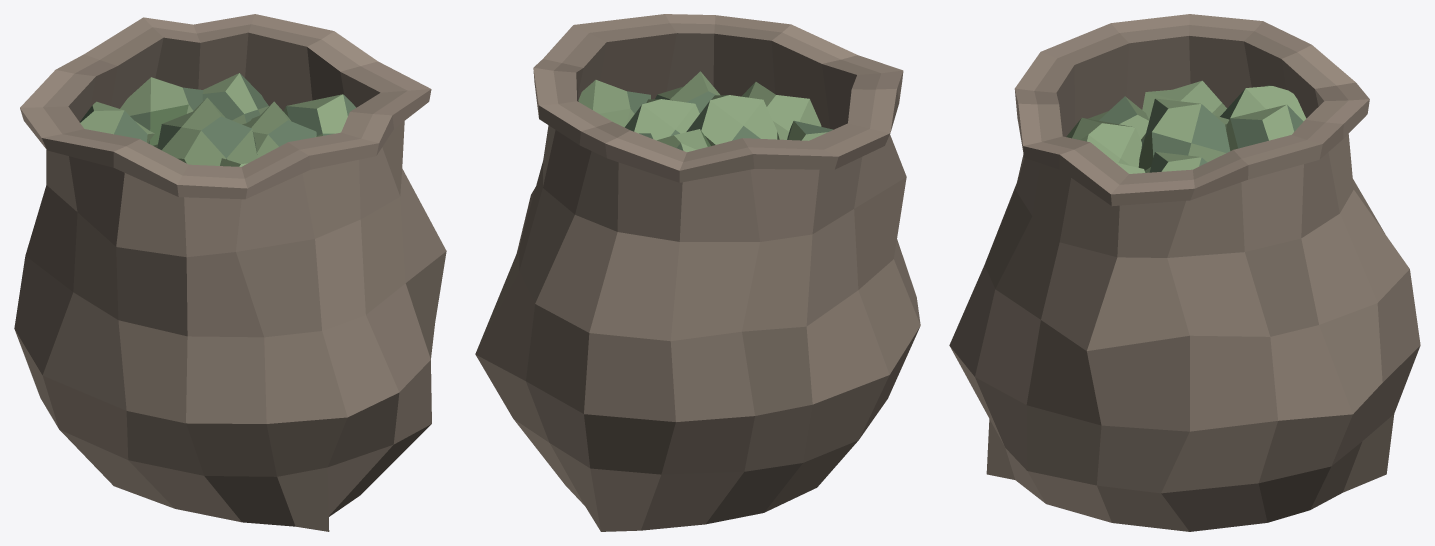
The model's file is cabbagesack.glb.
3 views of the same model, side by side, from view 1: azimuth 30°, elevation 25°; view 2: azimuth 150°, elevation 25°; view 3: azimuth 270°, elevation 25° (orthographic).
Visible parts, largest first — view 1: Cylinder, Cube, Cube.001, Cube.007, Cube.009, Cube.002, Cube.006; view 2: Cylinder, Cube, Cube.002, Cube.009, Cube.004, Cube.008, Cube.001, Cube.005; view 3: Cylinder, Cube, Cube.001, Cube.004, Cube.006, Cube.003, Cube.005, Cube.002.
Boxes of the visible parts, x1,y1,x2,y2 form: Cylinder: (14, 14, 446, 531); Cube: (157, 97, 257, 165); Cube.001: (120, 77, 203, 147); Cube.007: (202, 73, 268, 124); Cube.009: (283, 94, 356, 136); Cube.002: (242, 101, 316, 158); Cube.006: (79, 101, 154, 142); Cylinder: (475, 14, 920, 531); Cube: (686, 95, 779, 145); Cube.002: (625, 99, 699, 140); Cube.009: (578, 80, 650, 127); Cube.004: (741, 82, 821, 139); Cube.008: (655, 71, 720, 113); Cube.001: (657, 129, 710, 152); Cube.005: (787, 120, 832, 140); Cylinder: (949, 14, 1420, 531); Cube: (1138, 98, 1230, 172); Cube.001: (1226, 104, 1303, 150); Cube.004: (1066, 117, 1141, 167); Cube.006: (1220, 85, 1306, 121); Cube.003: (1142, 80, 1226, 119); Cube.005: (1088, 96, 1149, 139); Cube.002: (1149, 152, 1207, 172).
Size of the model in its own units: 1.04 by 1.02 by 1.16.
